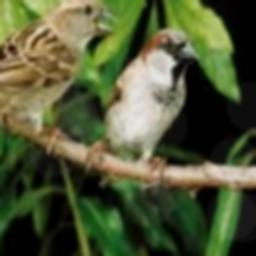Sparrow: (0, 0, 120, 156), (86, 27, 200, 186)
